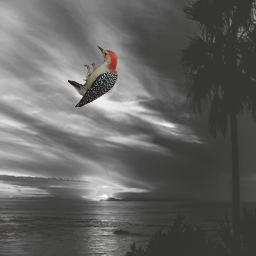Woodpecker: (68, 45, 120, 107)
